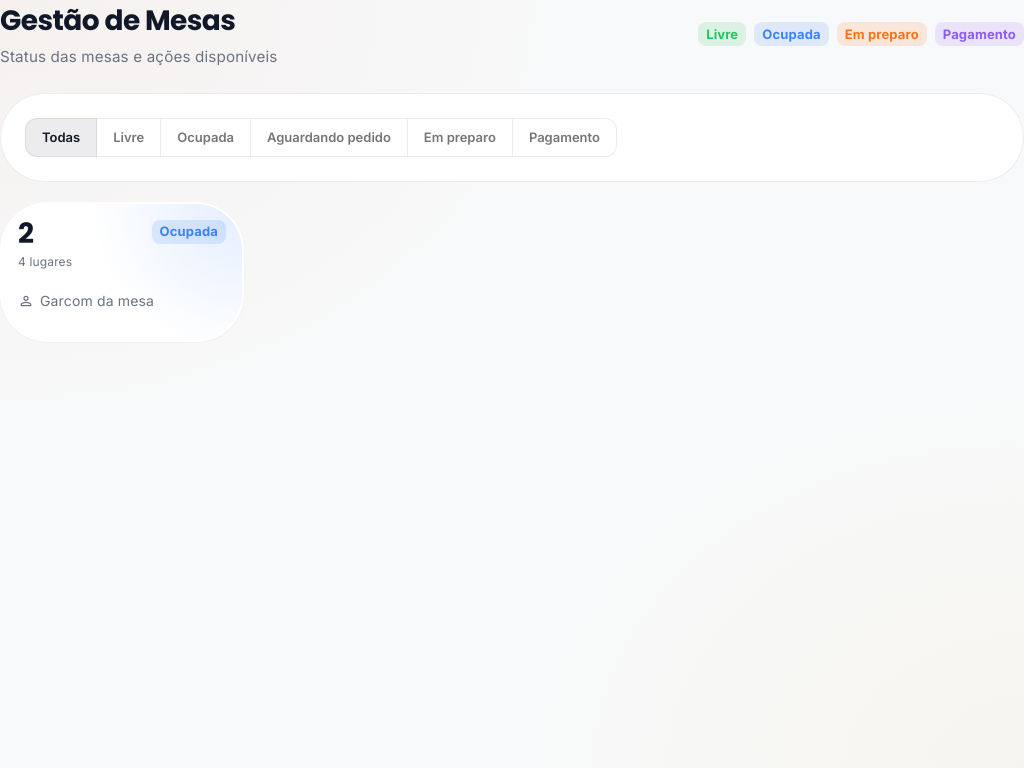
TablesPage - regra de consumo › permite adicionar pedido mas segura a conta enquanto ha pedido pendente
The image size is (1024, 768).
What coordinates should you click on to do the following:
click the text "Garcom da mesa"
I would click on:
 (97, 302)
Its box is [40,292,154,312].
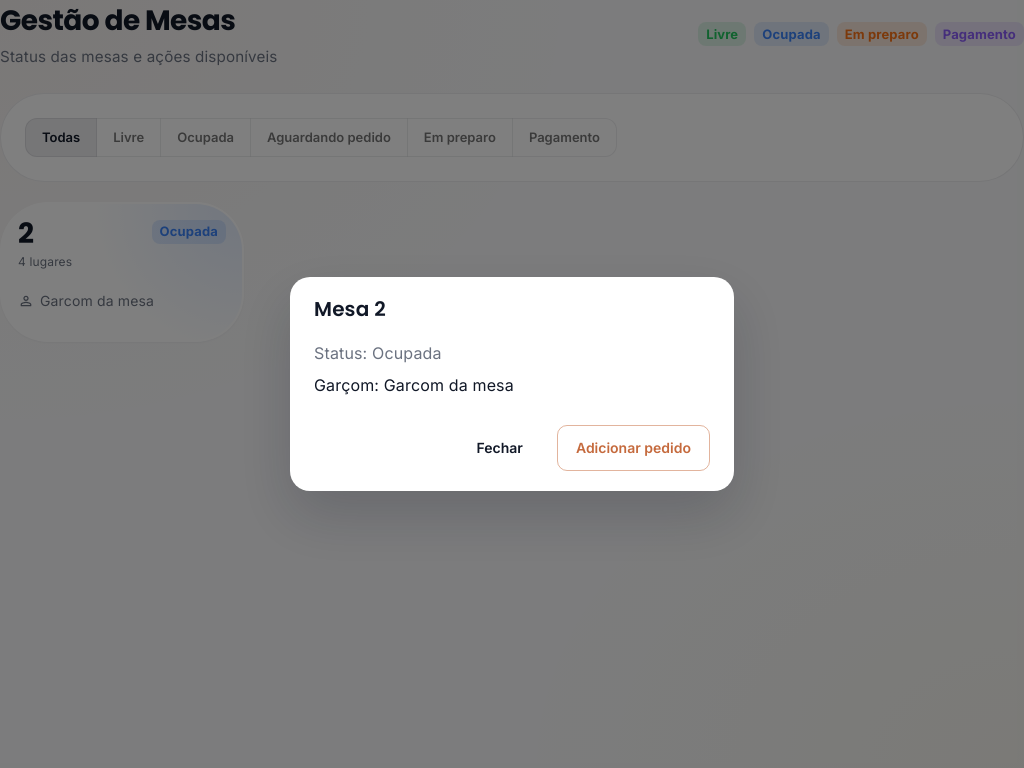
Check: the button "Adicionar pedido" is shown, box [557,425,710,471]
